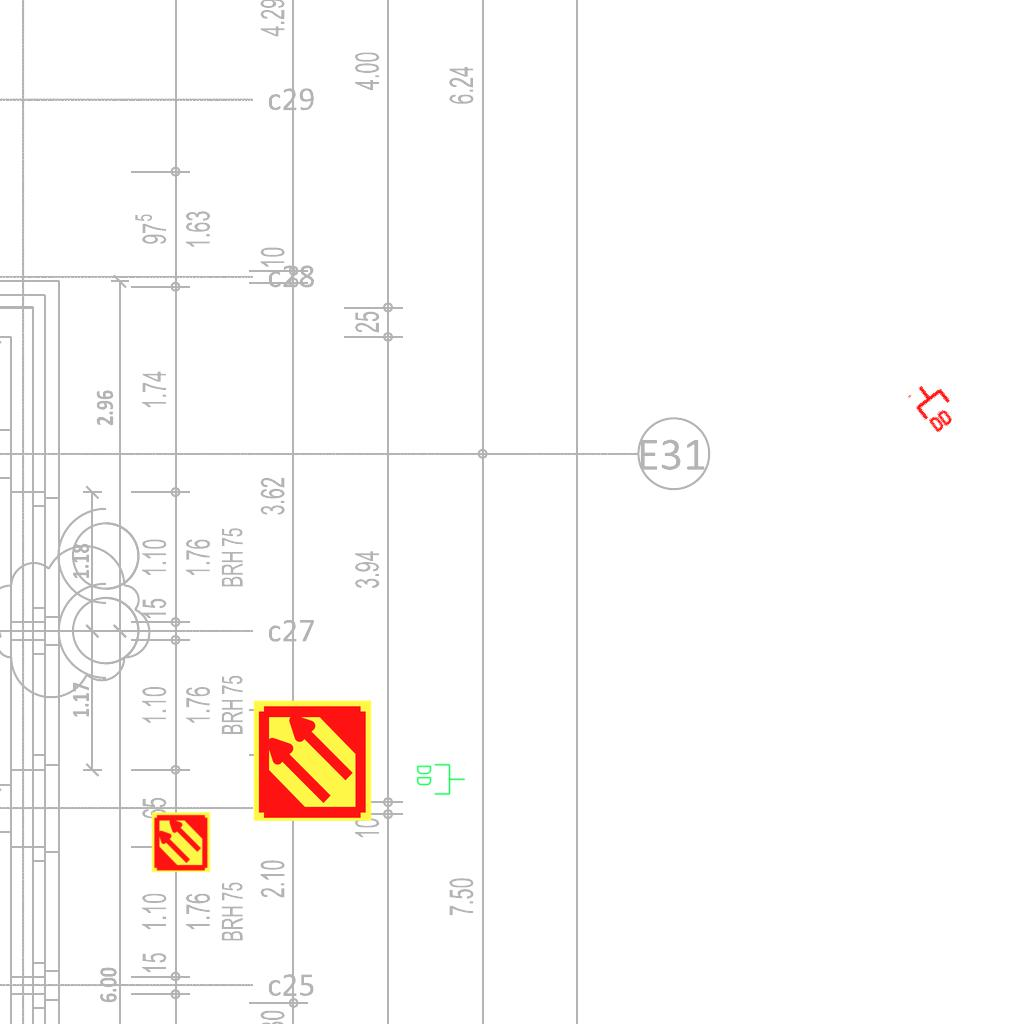ASR_Ansaugrauchmelder: (250, 698, 375, 823), (150, 811, 212, 873)
Datenanschluss_zweifach: (906, 374, 964, 437), (415, 762, 466, 796)
